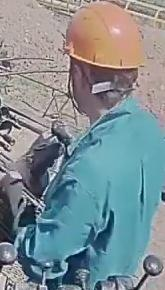gloves: (20, 134, 67, 214)
helmet: (64, 0, 145, 69)
vest: (13, 94, 164, 289)
